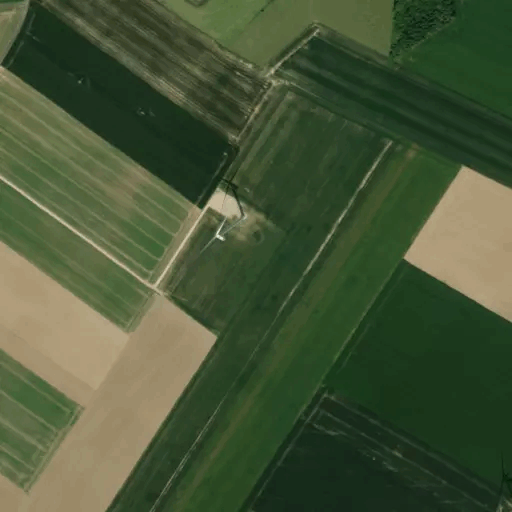wt: (190, 161, 271, 265)
